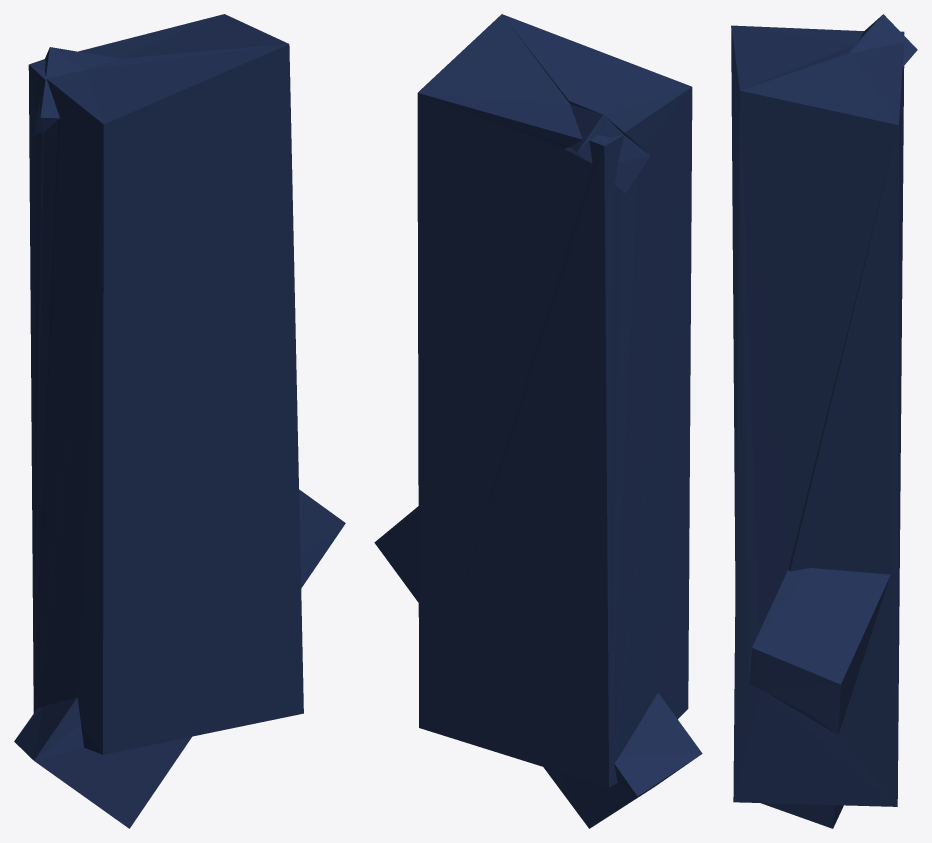
3 renders of one model, left to right at view 1: azimuth 30°, elevation 25°; view 2: azimuth 150°, elevation 25°; view 3: azimuth 270°, elevation 25°, orthographic. The views are drawn at different scales.
Parts seen in each view (by area): view 1: 981_Cube.3958; view 2: 981_Cube.3958; view 3: 981_Cube.3958.
Part boxes in pixels (box(x1,y1,x2,y2)): 981_Cube.3958: box(14, 14, 345, 828); 981_Cube.3958: box(374, 14, 702, 828); 981_Cube.3958: box(731, 14, 917, 828).
Bounding box in the file's own units: 5.89 × 13.81 × 2.9.
